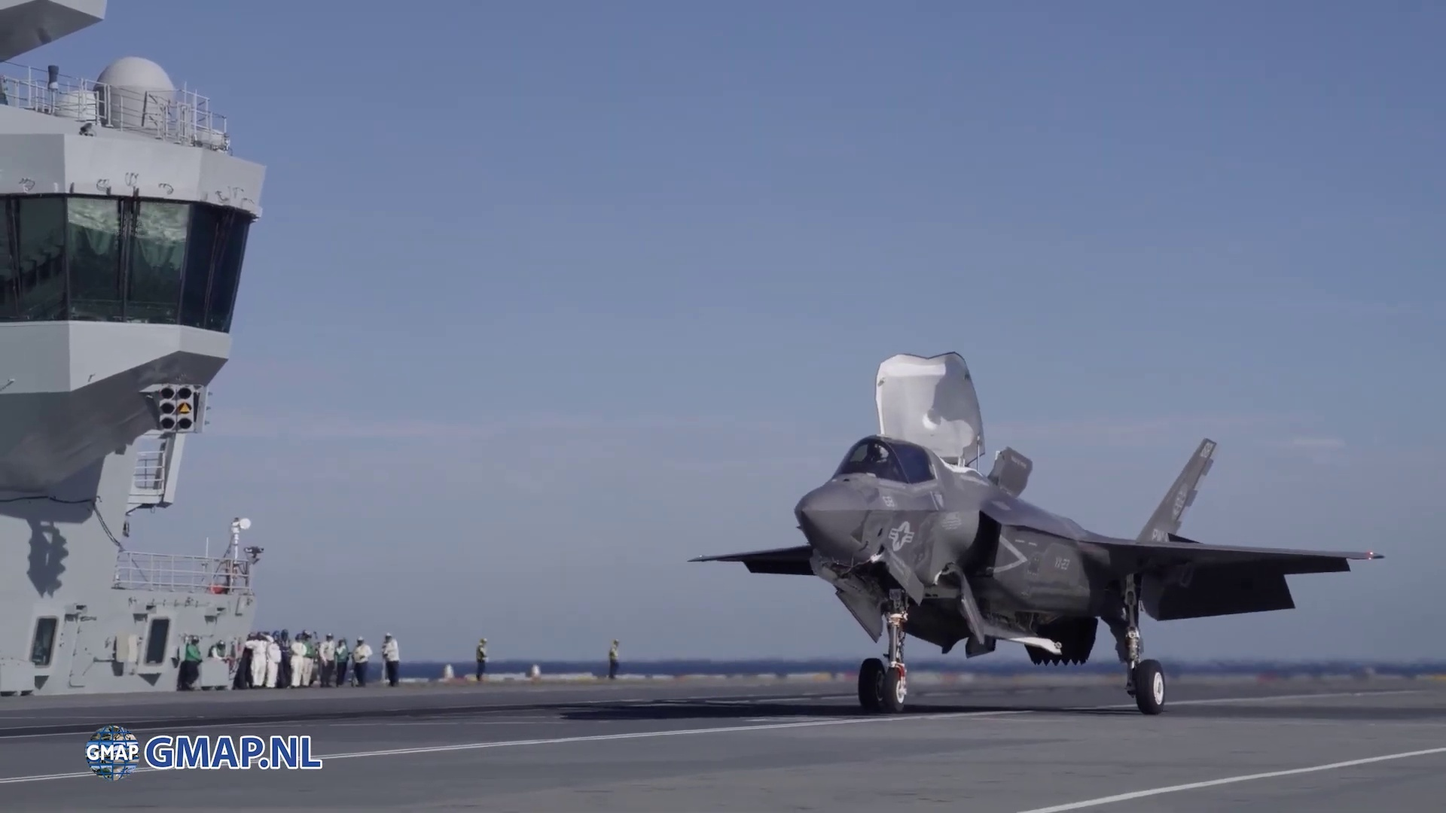F35: (681, 344, 1391, 724)
